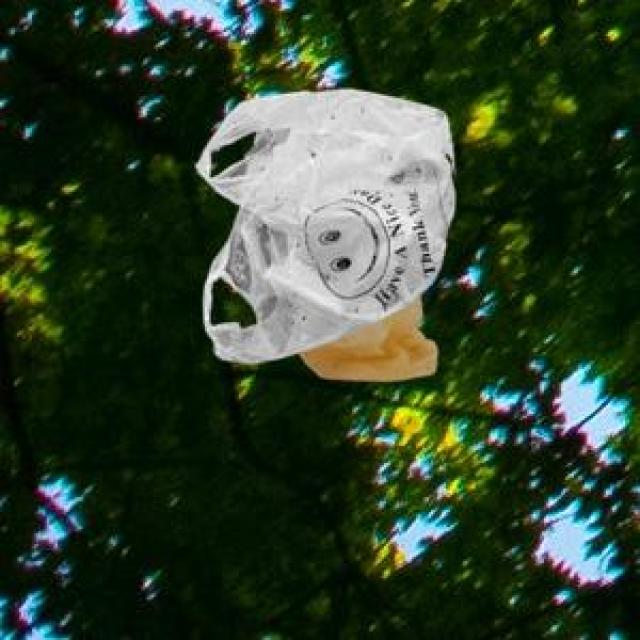plastic: (174, 70, 495, 398)
